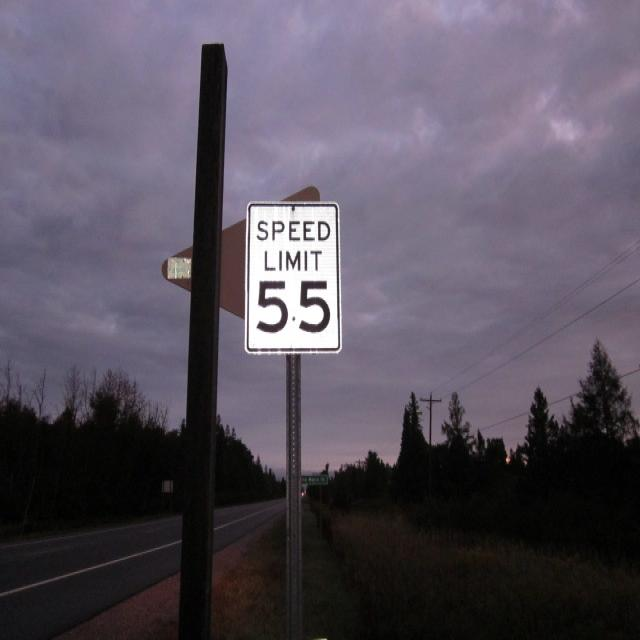regulatory: (244, 203, 342, 357)
